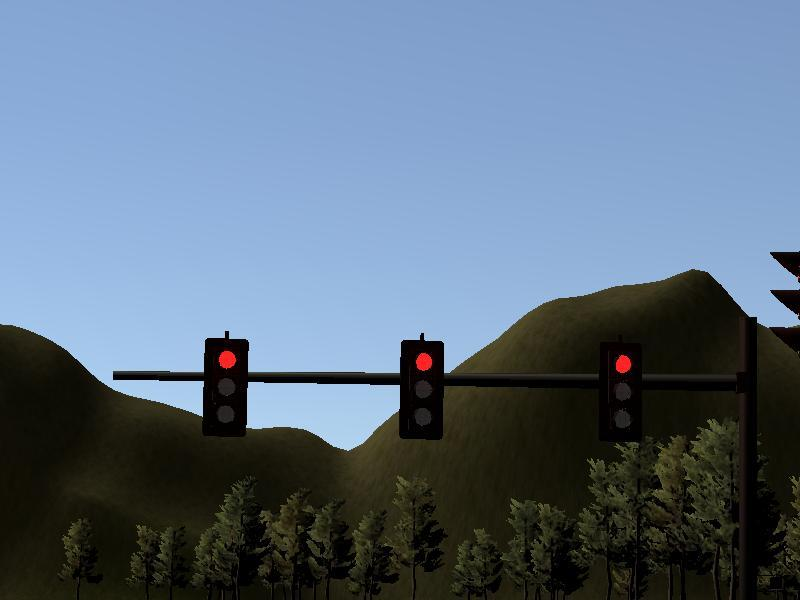Red: (203, 340, 248, 434), (402, 341, 443, 441), (601, 348, 641, 436)
